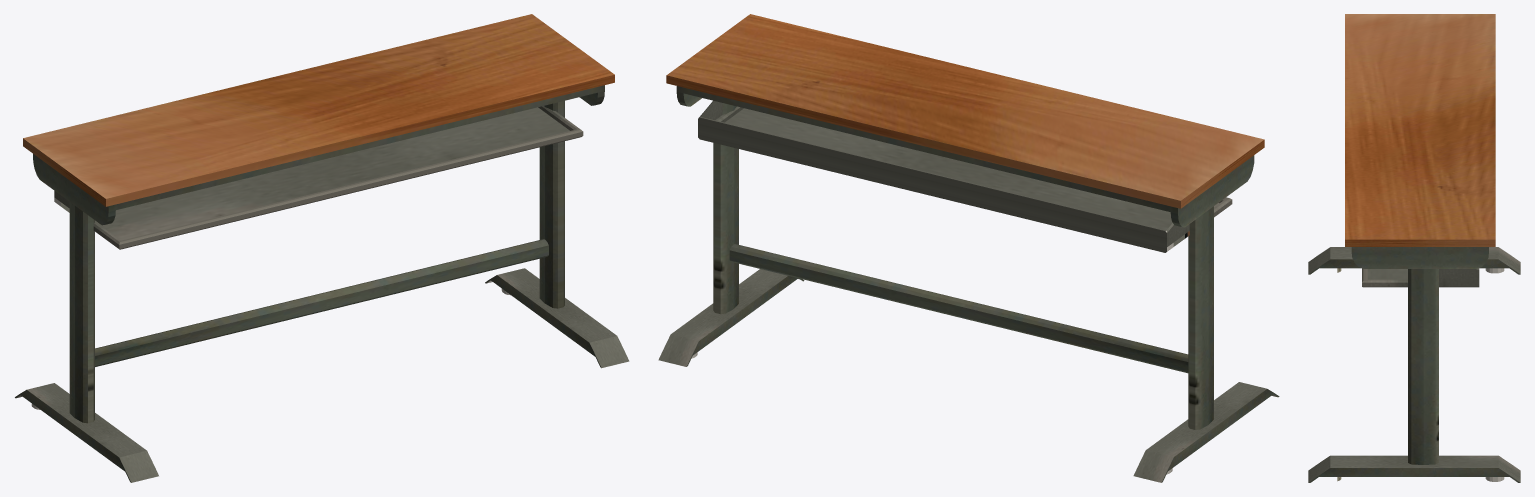
Rendered from Table.fbx.
3 renders of one model, left to right at view 1: azimuth 30°, elevation 25°; view 2: azimuth 150°, elevation 25°; view 3: azimuth 270°, elevation 25°, orthographic. The views are drawn at different scales.
Visible parts, largest first — view 1: Cube; view 2: Cube; view 3: Cube.
Boxes of the visible parts, left/top/right/bottom form: Cube: left=15, top=14, right=629, bottom=482; Cube: left=658, top=14, right=1279, bottom=482; Cube: left=1308, top=14, right=1520, bottom=482.
Bounding box in the file's own units: 709 × 361 × 282.
Materials: 1 (1 with a texture image).
